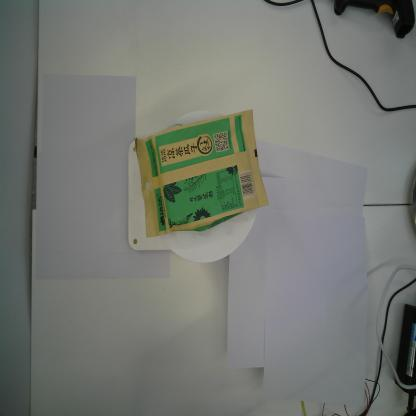Dried Food: (132, 107, 270, 238)
